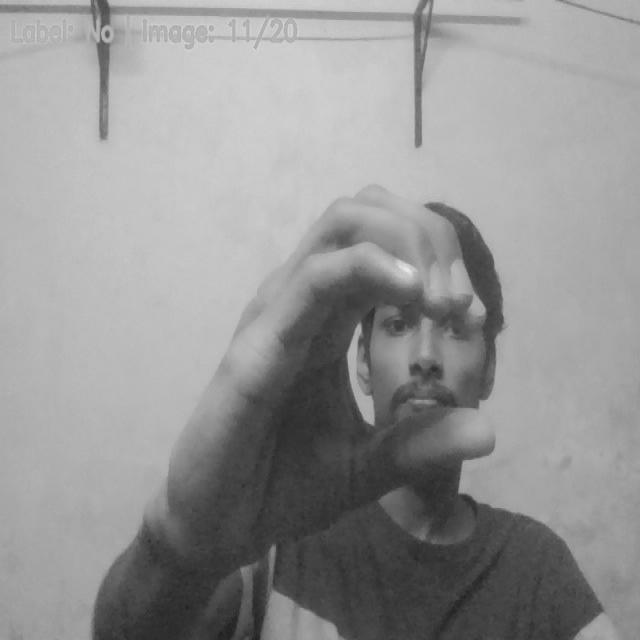No: (185, 187, 498, 567)
